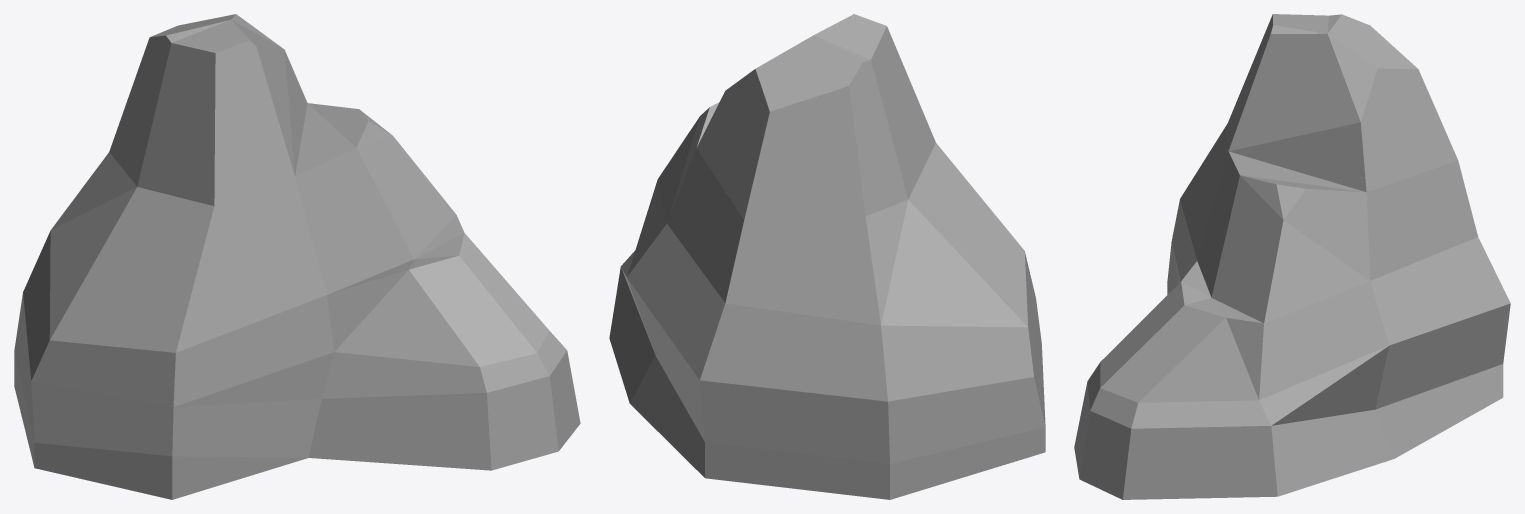
Rendered from Rock_Round_l_03.fbx.
The picture shows the model from 3 angles, left to right: view 1: azimuth 30°, elevation 25°; view 2: azimuth 150°, elevation 25°; view 3: azimuth 270°, elevation 25°; orthographic projection. The views are drawn at different scales.
Visible parts, largest first — view 1: Rock_Round_l_03; view 2: Rock_Round_l_03; view 3: Rock_Round_l_03.
Boxes of the visible parts, box(x1,y1,x2,y2) form: Rock_Round_l_03: box(14, 14, 580, 499); Rock_Round_l_03: box(609, 14, 1045, 499); Rock_Round_l_03: box(1074, 14, 1510, 499).
Bounding box in the file's own units: 240 × 194 × 213.
